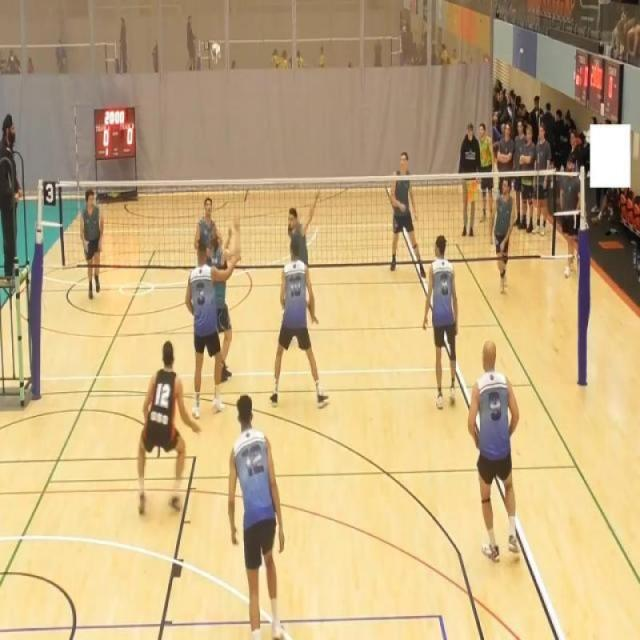volleyball: (210, 41, 222, 66)
